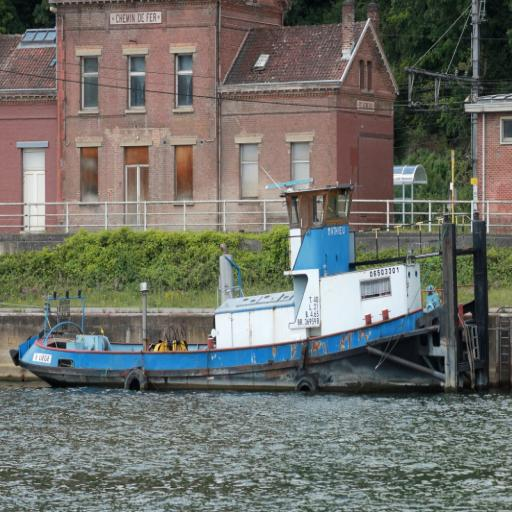tugboat: (8, 175, 494, 410)
